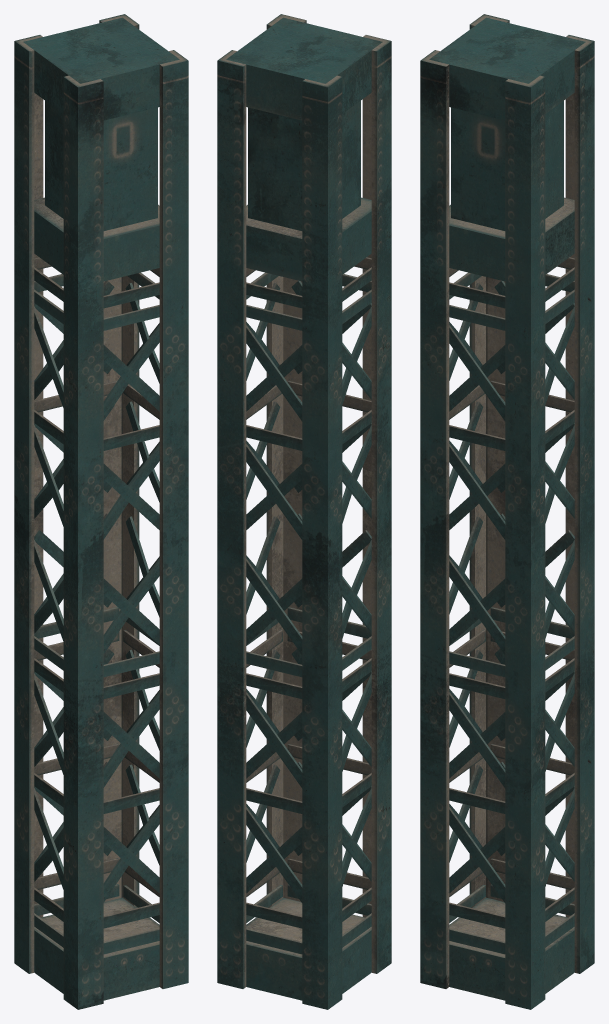
File: SM_PillarFrame8m.FBX
3 renders of one model, left to right at view 1: azimuth 30°, elevation 25°; view 2: azimuth 150°, elevation 25°; view 3: azimuth 330°, elevation 25°, orthographic.
Parts seen in each view (by area): view 1: SM_PillarFrame8m; view 2: SM_PillarFrame8m; view 3: SM_PillarFrame8m.
Boxes of the visible parts, x1=… form: SM_PillarFrame8m: x1=14, y1=14, x2=188, y2=1009; SM_PillarFrame8m: x1=217, y1=14, x2=391, y2=1009; SM_PillarFrame8m: x1=420, y1=14, x2=594, y2=1009.
Size of the model in its own units: 100 by 100 by 800.
